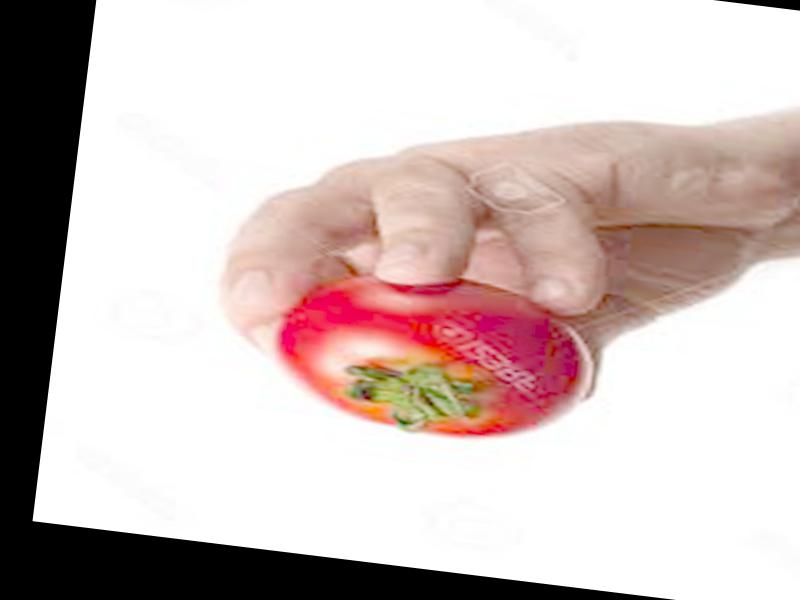Tomato: (266, 260, 597, 453)
